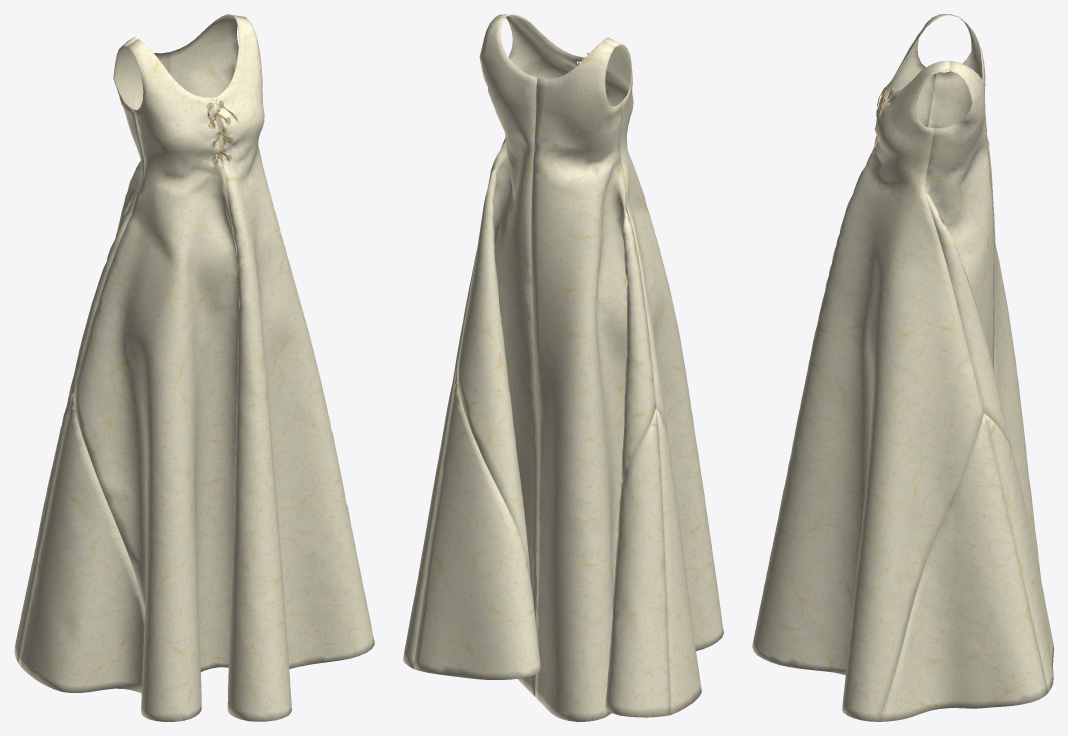
The model's file is cream-underdress.glb.
3 renders of one model, left to right at view 1: azimuth 30°, elevation 25°; view 2: azimuth 150°, elevation 25°; view 3: azimuth 270°, elevation 25°, orthographic. The views are drawn at different scales.
Parts seen in each view (by area): view 1: defaultMaterial; view 2: defaultMaterial; view 3: defaultMaterial.
Part boxes in pixels (x1,y1,x2,y2): defaultMaterial: [14, 14, 374, 721]; defaultMaterial: [403, 14, 723, 721]; defaultMaterial: [752, 14, 1053, 721].
Size of the model in its own units: 0.7054 by 1.48 by 0.643.
1 material, 1 textured.
